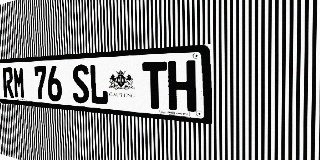6: (47, 65, 62, 102)
7: (33, 66, 48, 101)
H: (168, 60, 196, 112)
L: (89, 64, 108, 105)
M: (13, 67, 25, 99)
R: (2, 67, 14, 98)
S: (72, 64, 90, 104)
T: (142, 61, 168, 110)
